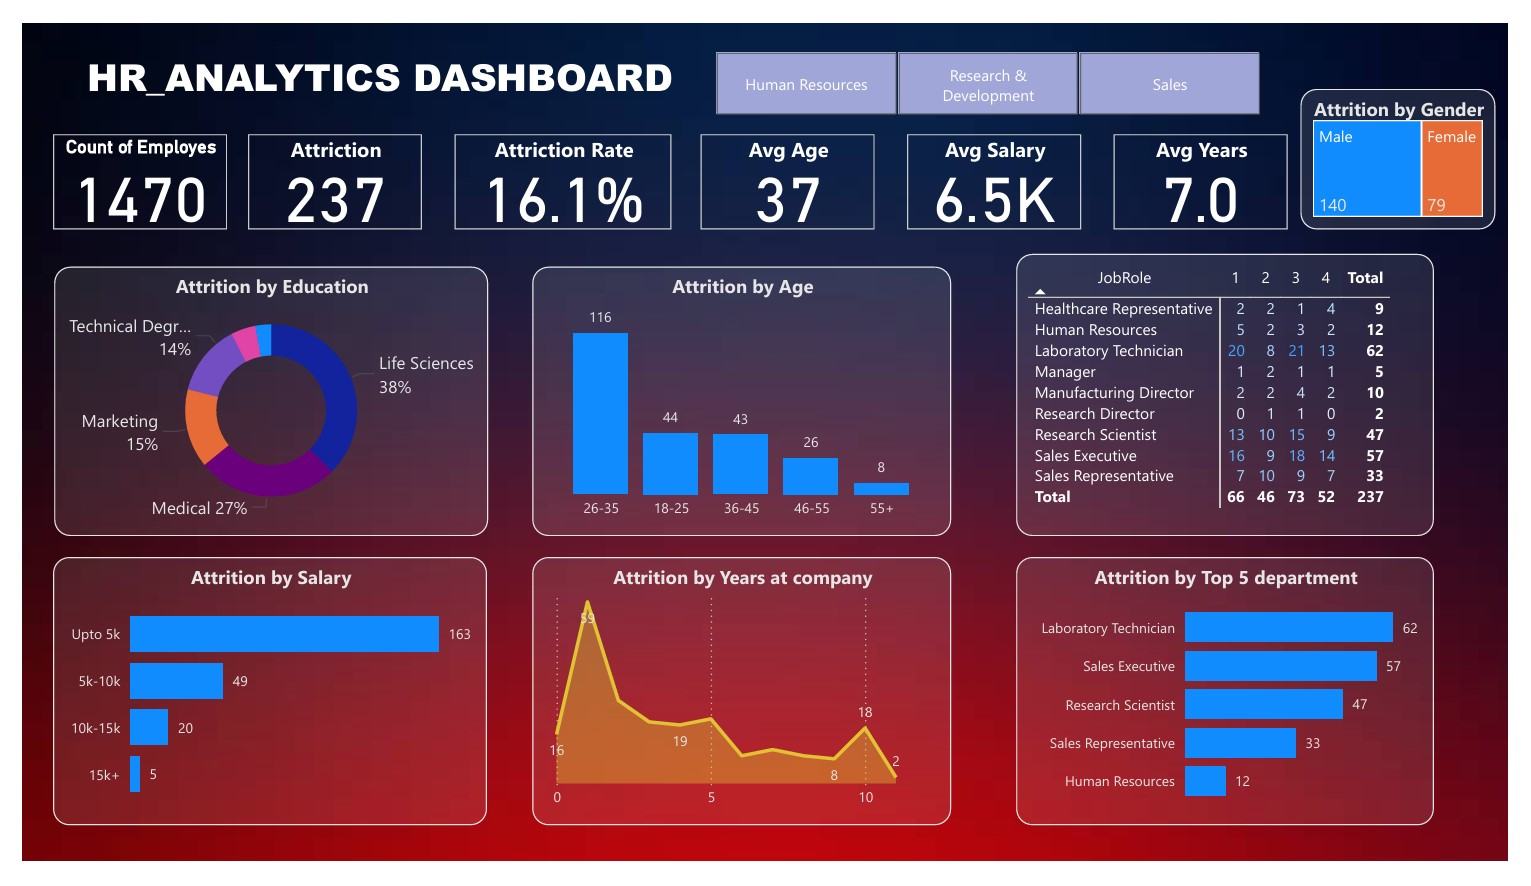

This screenshot's page, from the dashboard's own definition file:
{"tool":"powerbi","page":{"name":"Page 1","canvas":[1280,720],"ordinal":0},"visuals":[{"type":"card","title":"Count  of  Employes","fields":{"Values":["CountNonNull(HR_Analytics (2).EmpID)"]},"box":[25.9,95.4,149.9,81.8],"z":0},{"type":"card","title":"Attriction","fields":{"Values":["Sum(HR_Analytics (2).Attrition Count)"]},"box":[193.7,94.9,150,81.7],"z":1000},{"type":"card","title":"Attriction Rate","fields":{"Values":["HR_Analytics (2).Attriction Rate"]},"box":[372,94.9,186.7,81.7],"z":2000},{"type":"card","title":"Avg Age","fields":{"Values":["Avg(HR_Analytics (2).Age)"]},"box":[583.7,94.9,150,81.7],"z":3000},{"type":"card","title":"Avg Salary","fields":{"Values":["Avg(HR_Analytics (2).MonthlyIncome)"]},"box":[762,94.9,150,81.7],"z":4000},{"type":"card","title":"Avg Years","fields":{"Values":["Avg(HR_Analytics (2).YearsAtCompany)"]},"box":[940.3,94.9,150,81.7],"z":5000},{"type":"donutChart","title":" Attrition by Education","fields":{"Category":["HR_Analytics (2).EducationField"],"Y":["Sum(HR_Analytics (2).Attrition Count)"]},"box":[27.3,209,374,231.7],"z":6000},{"type":"columnChart","title":" Attrition by Age","fields":{"Category":["HR_Analytics (2).AgeGroup"],"Y":["Sum(HR_Analytics (2).Attrition Count)"]},"box":[439.1,209,360.4,231.7],"z":7000},{"type":"pivotTable","fields":{"Rows":["HR_Analytics (2).JobRole"],"Columns":["HR_Analytics (2).JobSatisfaction"],"Values":["Sum(HR_Analytics (2).Attrition Count)"]},"box":[855.5,198.4,360.4,242.3],"z":8000},{"type":"barChart","title":" Attrition by Salary","fields":{"Category":["HR_Analytics (2).SalarySlab"],"Y":["Sum(HR_Analytics (2).Attrition Count)"]},"box":[25.7,458.8,374,231.7],"z":8001},{"type":"barChart","title":" Attrition by Top 5 department","fields":{"Y":["Sum(HR_Analytics (2).Attrition Count)"],"Category":["HR_Analytics (2).JobRole"]},"box":[855.5,458.8,360.4,231.7],"z":8002},{"type":"areaChart","title":" Attrition by Years at company","fields":{"Category":["HR_Analytics (2).YearsAtCompany"],"Y":["Sum(HR_Analytics (2).Attrition Count)"]},"box":[439.1,458.8,360.4,231.7],"z":8003},{"type":"treemap","title":" Attrition by Gender","fields":{"Group":["HR_Analytics (2).Gender"],"Values":["Sum(HR_Analytics (2).Attrition Count)"]},"box":[1100.8,56,168.1,121.1],"z":8004},{"type":"slicer","fields":{"Values":["HR_Analytics (2).Department"]},"box":[572.4,18.2,517.9,66.6],"z":8005},{"type":"textbox","box":[50,18.2,522.4,66.6],"z":8006}]}

Visuals, with their boxes in screenshot pixels (x1, y1, x2, y2), scaled from the page's 1280x720 canvas onto the 1531x886 screenshot:
"Count  of  Employes" card: {"left": 31, "top": 117, "right": 210, "bottom": 218}
"Attriction" card: {"left": 232, "top": 117, "right": 411, "bottom": 217}
"Attriction Rate" card: {"left": 445, "top": 117, "right": 668, "bottom": 217}
"Avg Age" card: {"left": 698, "top": 117, "right": 878, "bottom": 217}
"Avg Salary" card: {"left": 911, "top": 117, "right": 1091, "bottom": 217}
"Avg Years" card: {"left": 1125, "top": 117, "right": 1304, "bottom": 217}
" Attrition by Education" donutChart: {"left": 33, "top": 257, "right": 480, "bottom": 542}
" Attrition by Age" columnChart: {"left": 525, "top": 257, "right": 956, "bottom": 542}
pivotTable - HR_Analytics (2).JobRole x HR_Analytics (2).JobSatisfaction: {"left": 1023, "top": 244, "right": 1454, "bottom": 542}
" Attrition by Salary" barChart: {"left": 31, "top": 565, "right": 478, "bottom": 850}
" Attrition by Top 5 department" barChart: {"left": 1023, "top": 565, "right": 1454, "bottom": 850}
" Attrition by Years at company" areaChart: {"left": 525, "top": 565, "right": 956, "bottom": 850}
" Attrition by Gender" treemap: {"left": 1317, "top": 69, "right": 1518, "bottom": 218}
slicer - HR_Analytics (2).Department: {"left": 685, "top": 22, "right": 1304, "bottom": 104}
textbox: {"left": 60, "top": 22, "right": 685, "bottom": 104}
